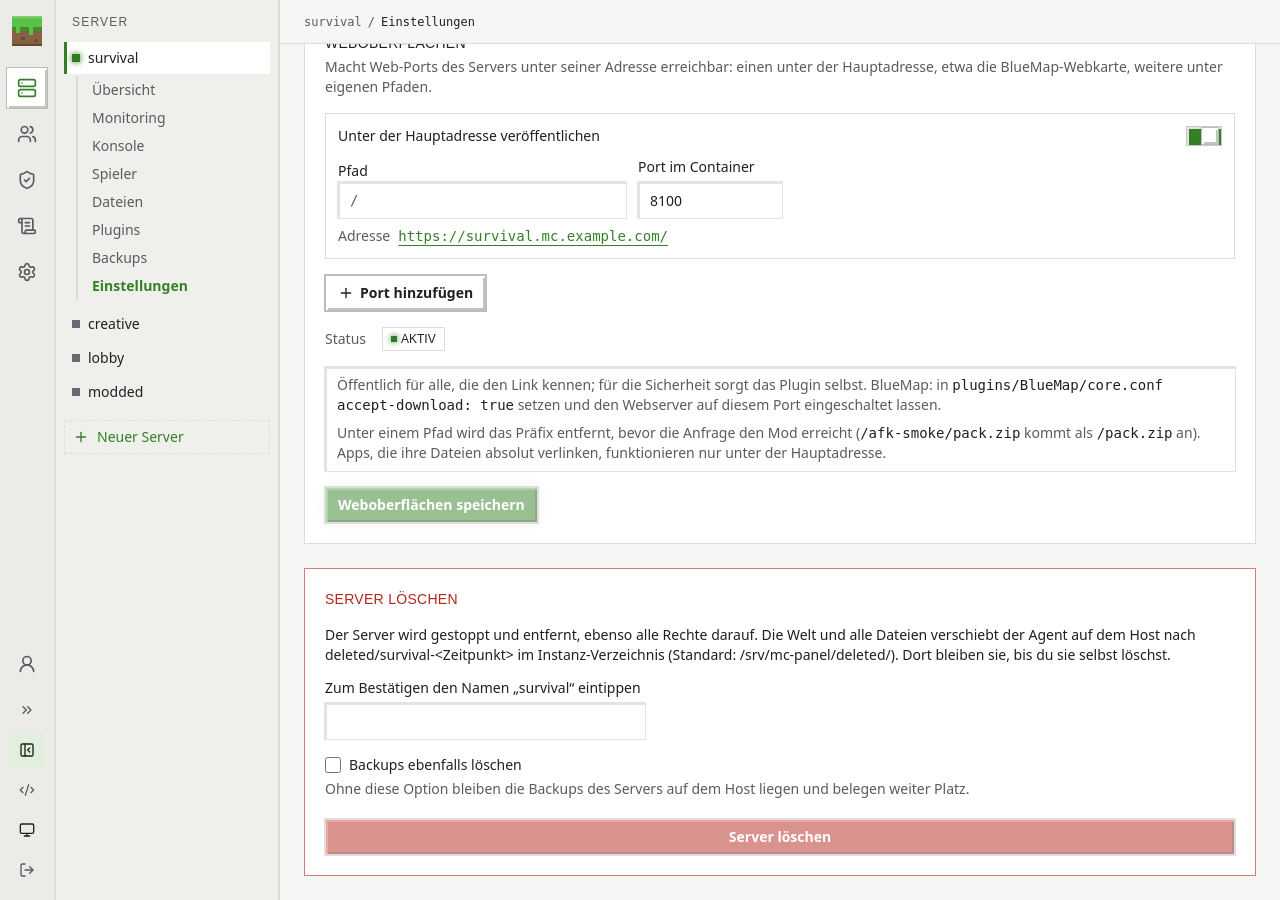
Test: deleting a server (#148) › says when the container could not be removed yet
(page scrolled)
Type "survival" into the field labelled "Zum Bestätigen den Namen „survival“ eintippen".
click(485, 721); type("survival")  # box [325,703,645,739]
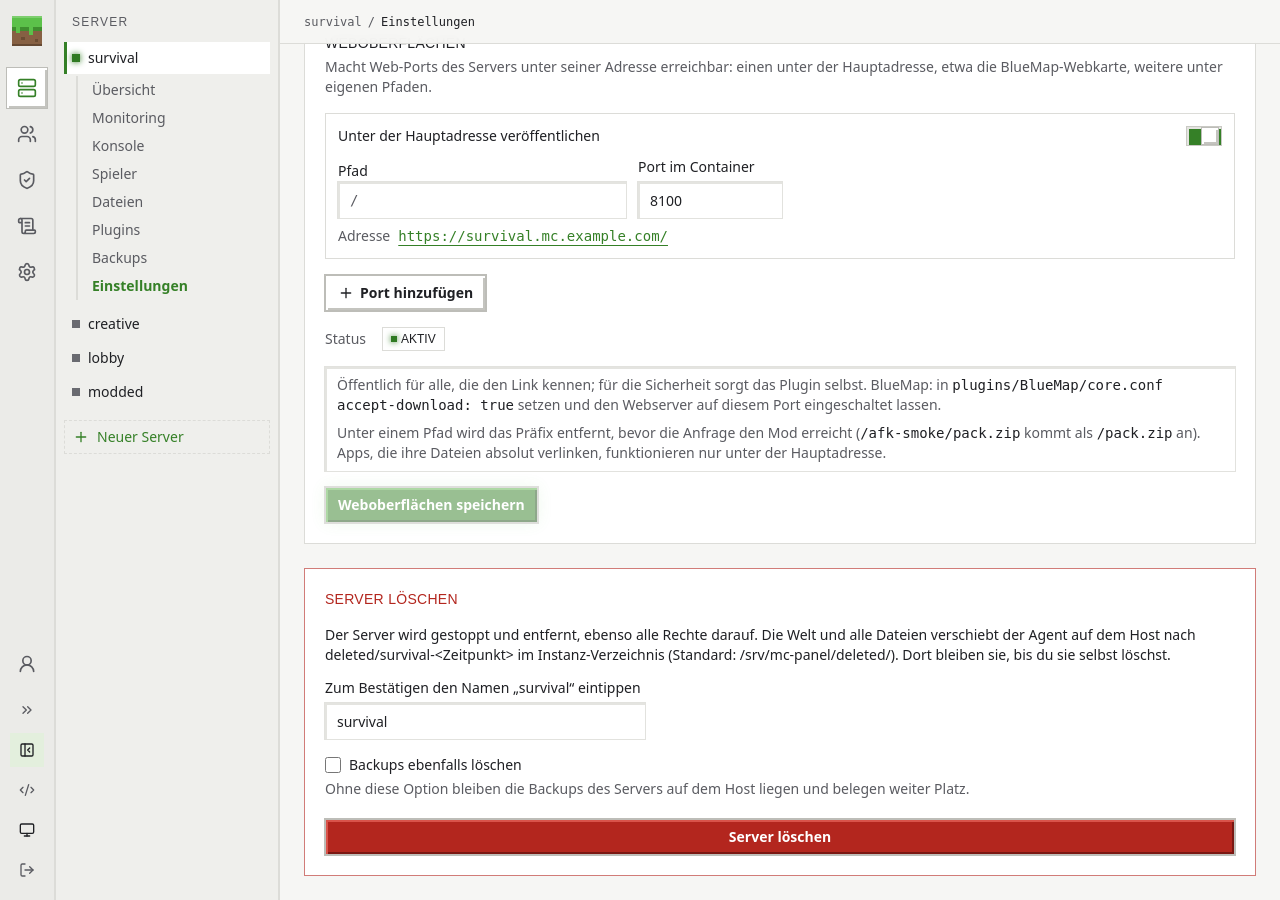
Click the button "Server löschen".
click(780, 837)  # box [325,819,1235,855]
(page scrolled)
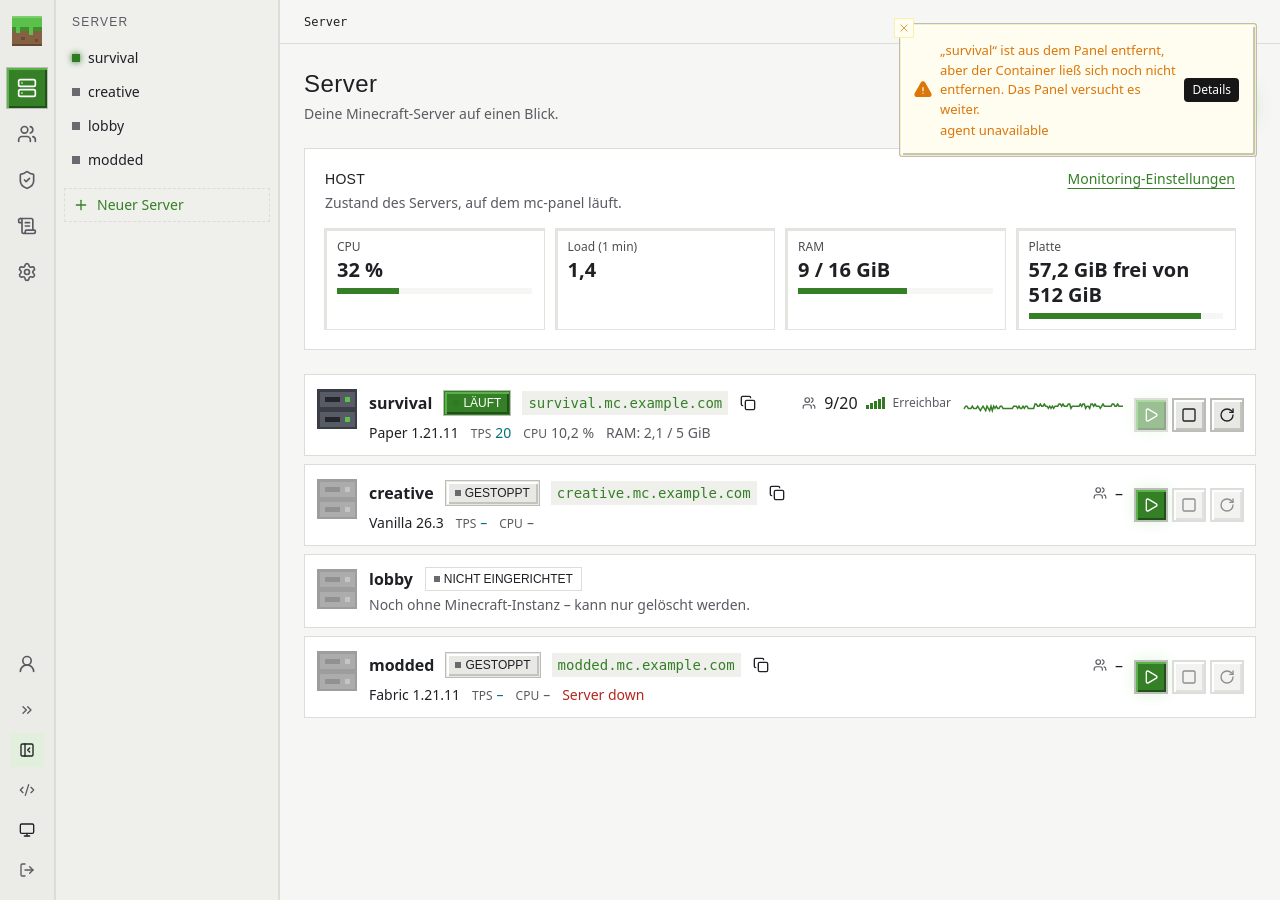
Expected: the text "„survival“ ist aus dem Panel entfernt, aber der Container ließ sich noch nicht entfernen. Das Panel versucht es weiter." is shown, [940,41,1176,118]
Expected: the text "agent unavailable" is shown, [940,121,1049,139]
